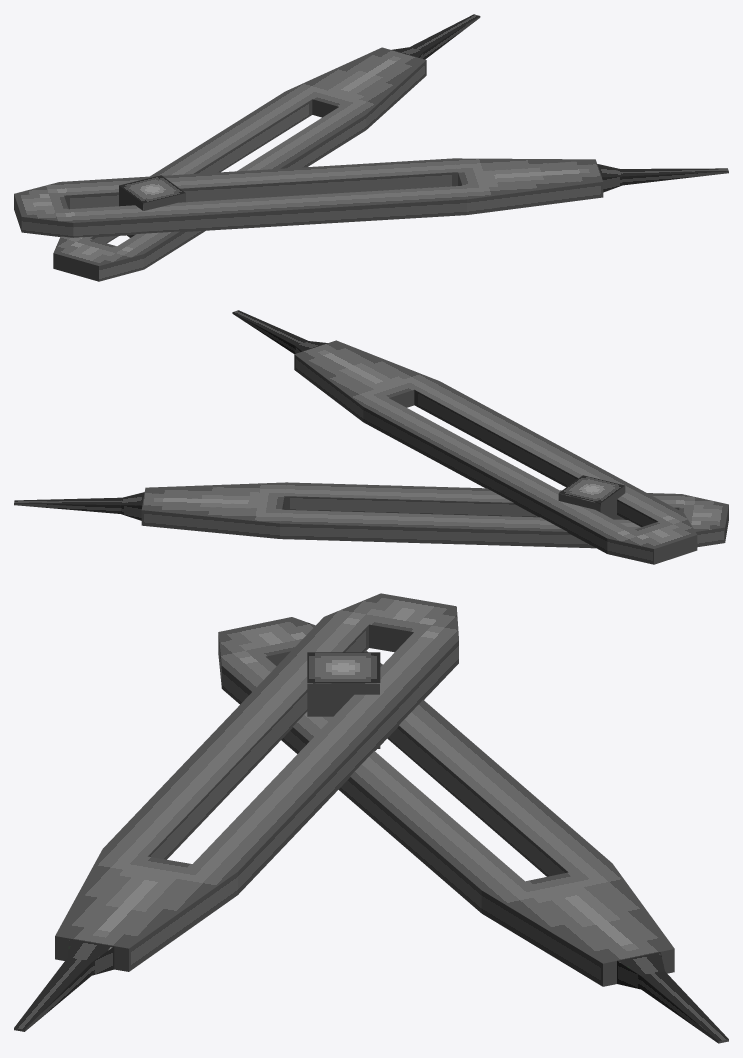
Rendered from maptool.obj.
The picture shows the model from 3 angles, top to bottom: view 1: azimuth 30°, elevation 25°; view 2: azimuth 150°, elevation 25°; view 3: azimuth 270°, elevation 25°; orthographic projection. The views are drawn at different scales.
Parts seen in each view (by area): view 1: tool; view 2: tool; view 3: tool.
Part boxes in pixels (box(x1,y1,x2,y2)): tool: box(14, 14, 728, 281); tool: box(14, 310, 728, 564); tool: box(14, 593, 728, 1043).
Size of the model in its own units: 0.6918 by 0.05 by 0.4909.
